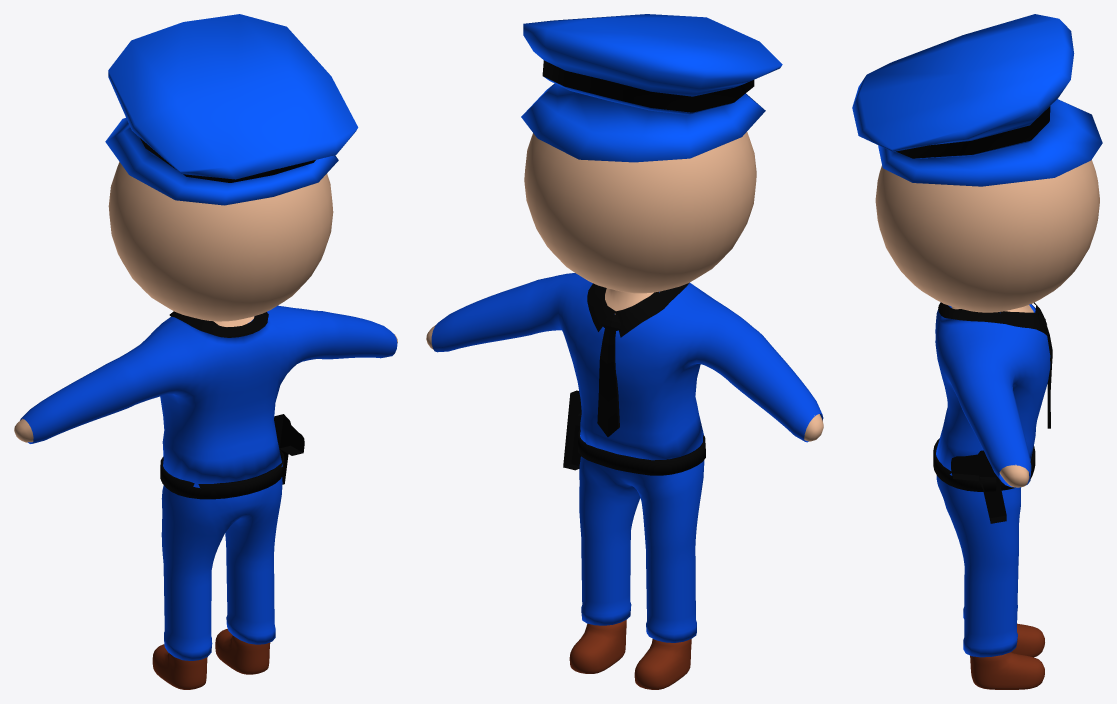
The model's file is Policeman_character.fbx.
3 renders of one model, left to right at view 1: azimuth 30°, elevation 25°; view 2: azimuth 150°, elevation 25°; view 3: azimuth 270°, elevation 25°, orthographic. The views are drawn at different scales.
Visible parts, largest first — view 1: Cylinder.001; view 2: Cylinder.001; view 3: Cylinder.001.
Part boxes in pixels (x1,y1,x2,y2): Cylinder.001: (14,14,397,689); Cylinder.001: (426,14,823,689); Cylinder.001: (852,14,1102,689).
Bounding box in the file's own units: 191 × 303 × 110.
